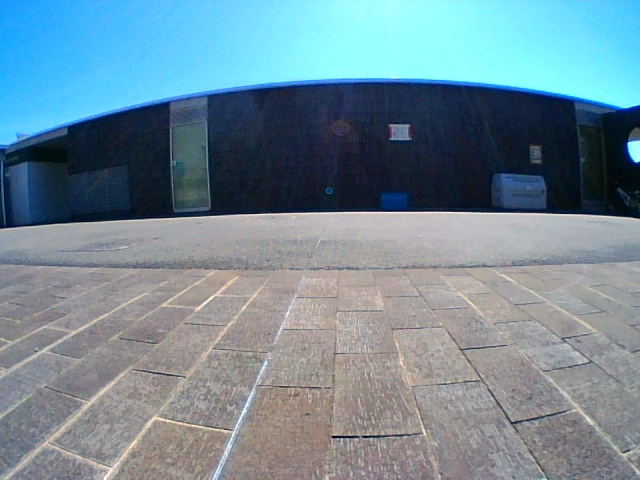blue_box: (381, 193, 406, 210)
